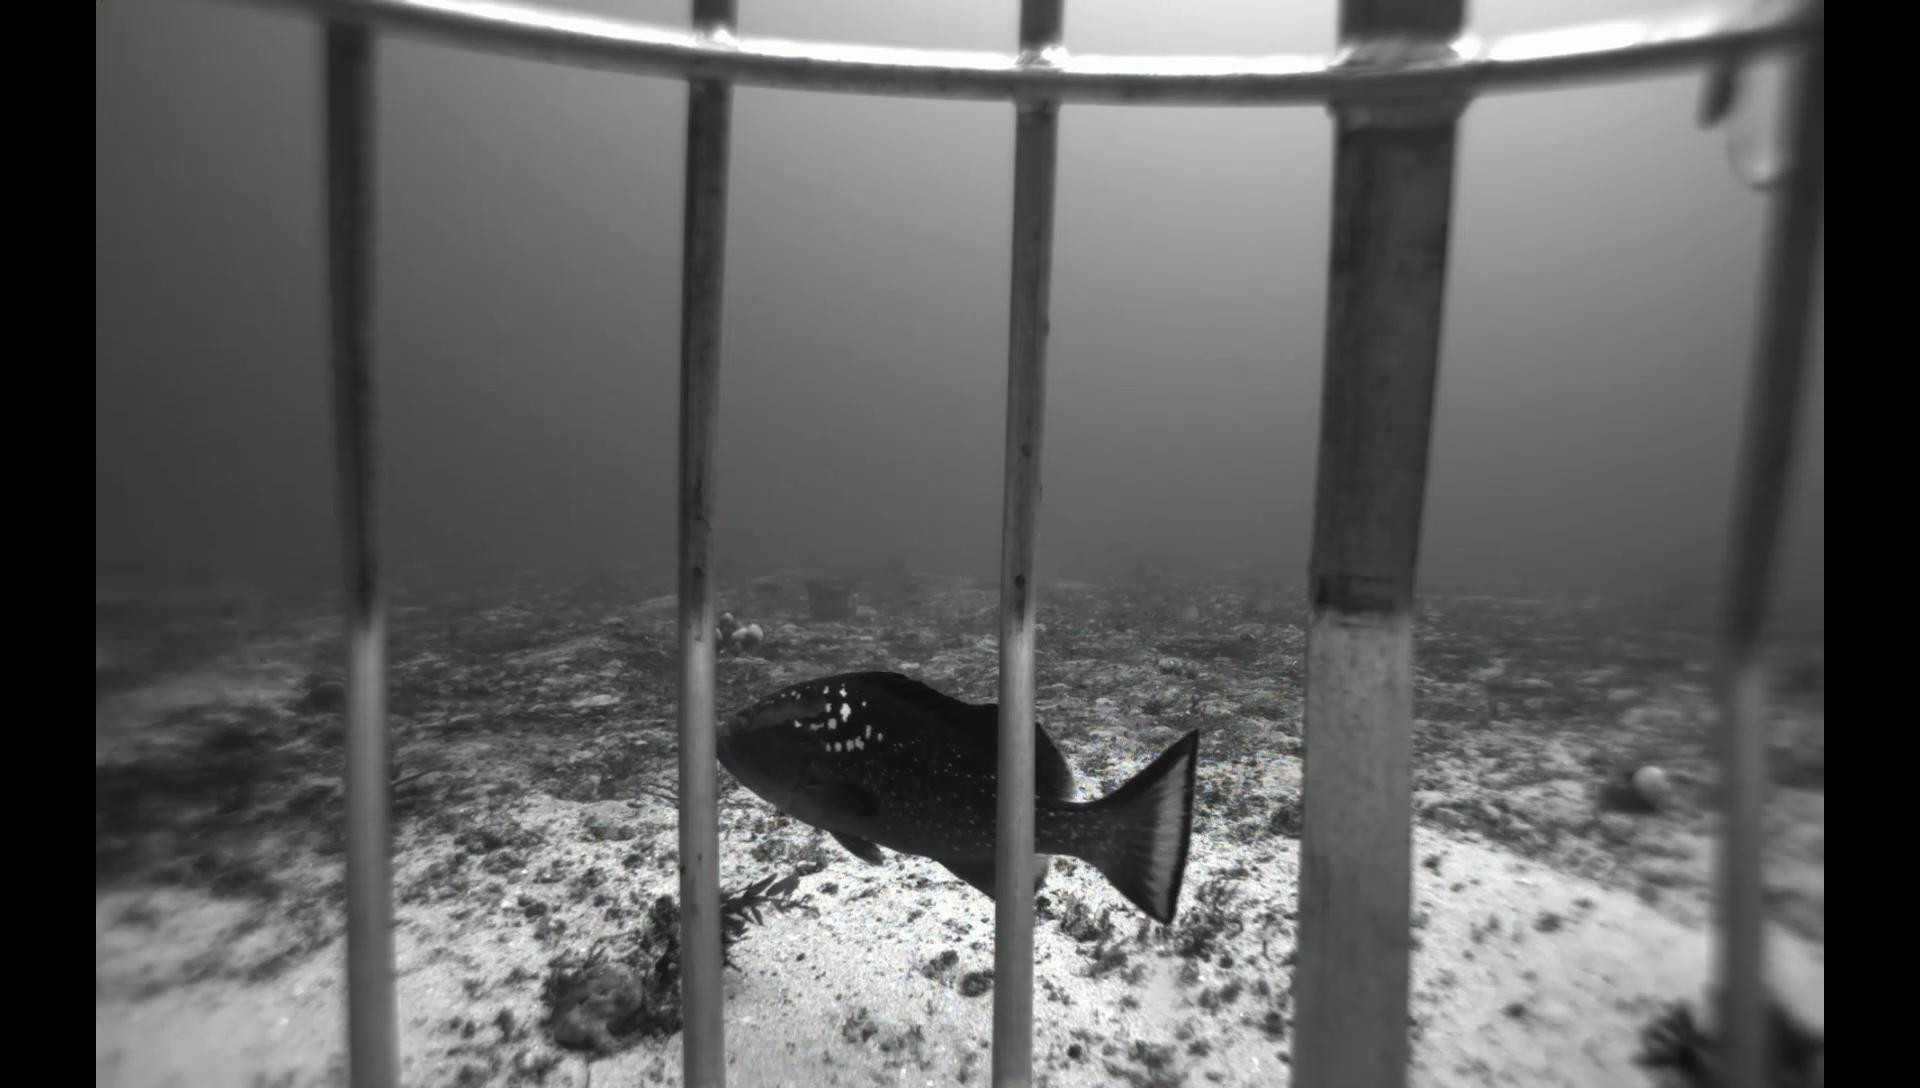CHAETODONOCELLATUS-170260307: (1240, 589, 1286, 620), (1170, 601, 1207, 626)
EPINEPHELUSMORIO-170021211: (711, 663, 1213, 943)
PRISTIGENYSALTA-170050401: (295, 679, 345, 721)
